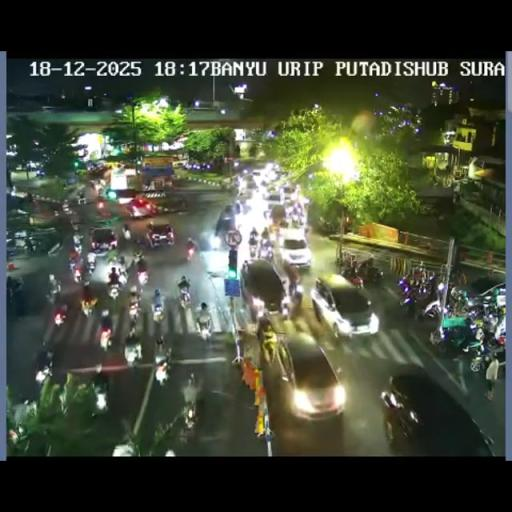Car: (380, 366, 495, 454), (272, 334, 344, 420), (310, 274, 377, 339), (238, 258, 285, 322), (451, 275, 505, 316), (278, 228, 312, 269), (214, 205, 236, 243), (145, 221, 174, 249), (88, 227, 118, 254), (125, 197, 156, 218), (236, 172, 258, 196), (268, 204, 286, 227), (264, 190, 284, 208)
Motorcycle: (66, 232, 151, 314), (466, 330, 504, 376), (398, 270, 438, 310), (6, 422, 30, 453), (180, 400, 199, 438), (34, 346, 54, 381), (355, 261, 384, 285), (92, 374, 110, 412), (256, 315, 272, 357), (182, 372, 200, 406), (123, 331, 142, 363), (280, 290, 300, 319), (98, 314, 114, 348), (81, 283, 97, 314), (154, 356, 170, 386), (196, 313, 212, 341), (106, 275, 122, 299), (6, 274, 22, 298), (53, 302, 68, 326), (236, 197, 254, 216), (135, 259, 148, 285), (177, 282, 191, 306), (451, 268, 467, 289), (258, 242, 274, 262), (318, 218, 338, 234), (151, 302, 165, 324), (96, 198, 111, 218), (127, 310, 139, 334), (71, 262, 83, 284), (115, 262, 128, 282), (46, 286, 59, 306), (248, 231, 258, 256), (72, 232, 82, 254), (186, 238, 196, 260), (267, 226, 279, 244), (70, 216, 82, 234), (106, 249, 119, 264), (342, 254, 354, 270), (86, 255, 96, 274), (155, 334, 165, 352), (25, 236, 35, 254), (291, 215, 303, 229), (122, 223, 131, 241), (133, 247, 143, 261), (129, 284, 138, 298), (77, 194, 86, 205), (264, 208, 270, 219)
